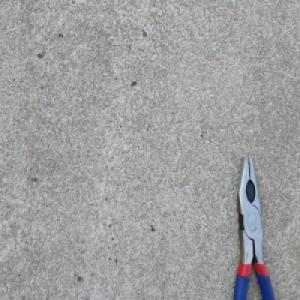Pliers: (230, 153, 274, 300)
